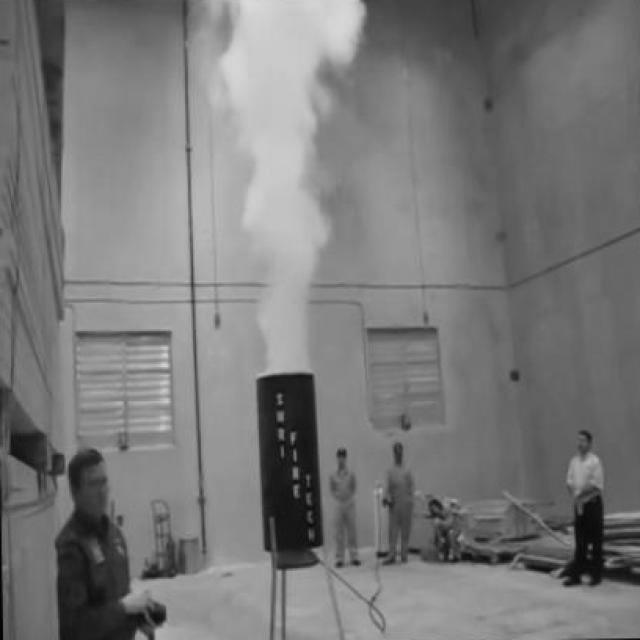fire: (216, 0, 371, 373)
